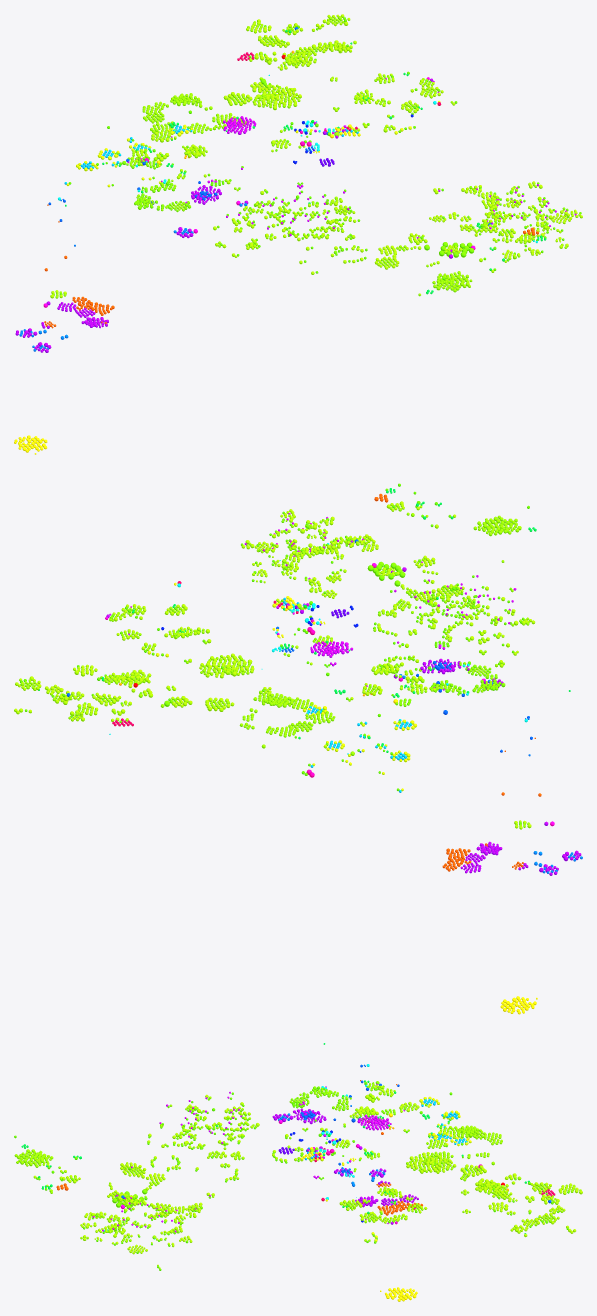
The model's file is task-6d2e3a11f-layout.gltf.
3 views of the same model, one above another, from view 1: azimuth 30°, elevation 25°; view 2: azimuth 150°, elevation 25°; view 3: azimuth 270°, elevation 25° (orthographic). The views are drawn at different scales.
Visible parts, largest first — view 1: normal_c_files, normal_h_files, normal_txt_files, normal_png_files, normal_cmake_files, normal_m_files; view 2: normal_c_files, normal_h_files, normal_txt_files, normal_png_files, normal_cmake_files; view 3: normal_c_files, normal_h_files, normal_txt_files, normal_png_files, normal_cmake_files, normal_m_files, normal_xml_files, normal_cpp_files, normal_in_files.
Part boxes in pixels (bbox=[...]): normal_c_files: bbox=[50, 14, 582, 298]; normal_h_files: bbox=[52, 16, 573, 298]; normal_txt_files: bbox=[59, 17, 581, 294]; normal_png_files: bbox=[15, 78, 452, 352]; normal_cmake_files: bbox=[127, 78, 576, 238]; normal_m_files: bbox=[122, 157, 565, 253]; normal_c_files: bbox=[14, 501, 535, 829]; normal_h_files: bbox=[20, 505, 529, 827]; normal_txt_files: bbox=[20, 483, 529, 824]; normal_png_files: bbox=[106, 567, 581, 875]; normal_cmake_files: bbox=[109, 513, 516, 690]; normal_c_files: bbox=[33, 1085, 582, 1268]; normal_h_files: bbox=[14, 1083, 581, 1242]; normal_txt_files: bbox=[14, 1081, 569, 1270]; normal_png_files: bbox=[115, 1104, 418, 1224]; normal_cmake_files: bbox=[92, 1084, 415, 1232]; normal_m_files: bbox=[118, 1081, 384, 1230]; normal_xml_files: bbox=[56, 1080, 422, 1215]; normal_cpp_files: bbox=[320, 1096, 471, 1241]; normal_in_files: bbox=[21, 1043, 529, 1233].
Bounding box in the file's own units: 365 × 236 × 451.
